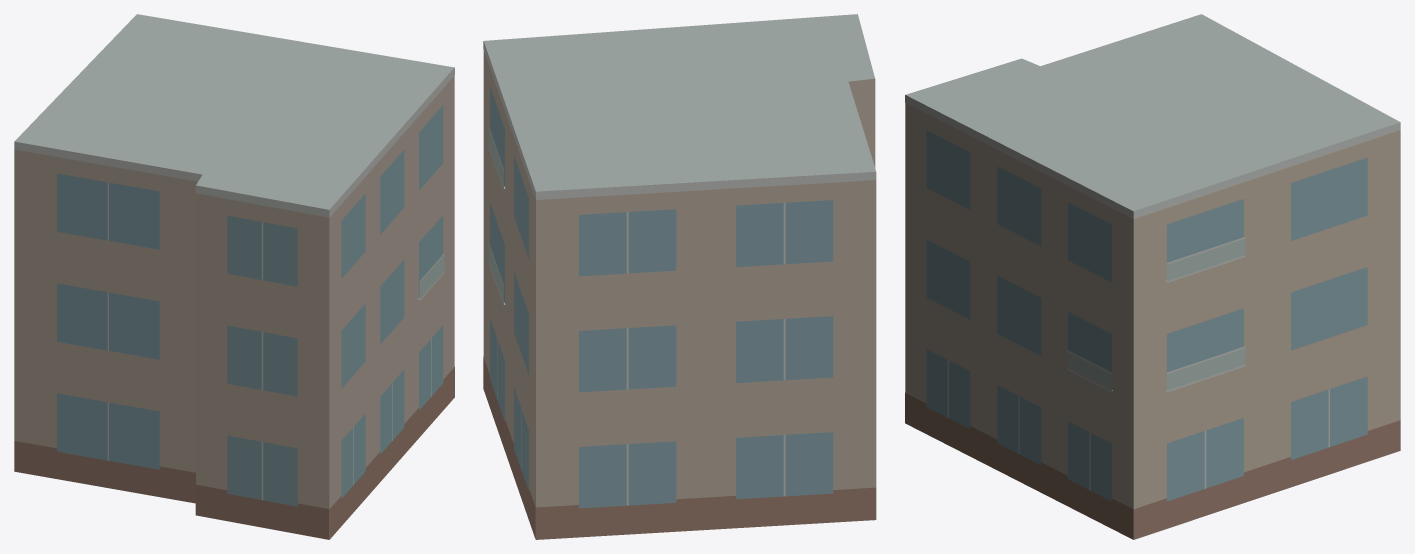
The model's file is survey-upis-32638797.glb.
3 views of the same model, side by side, from view 1: azimuth 30°, elevation 25°; view 2: azimuth 150°, elevation 25°; view 3: azimuth 270°, elevation 25° (orthographic). The views are drawn at different scales.
Visible parts, largest first — view 1: survey-upis-32638797.tmp; view 2: survey-upis-32638797.tmp; view 3: survey-upis-32638797.tmp.
Boxes of the visible parts, x1,y1,x2,y2 form: survey-upis-32638797.tmp: (14,14,454,539); survey-upis-32638797.tmp: (483,14,876,539); survey-upis-32638797.tmp: (905,14,1400,539).
Size of the model in its own units: 13.15 by 10.2 by 13.95.
